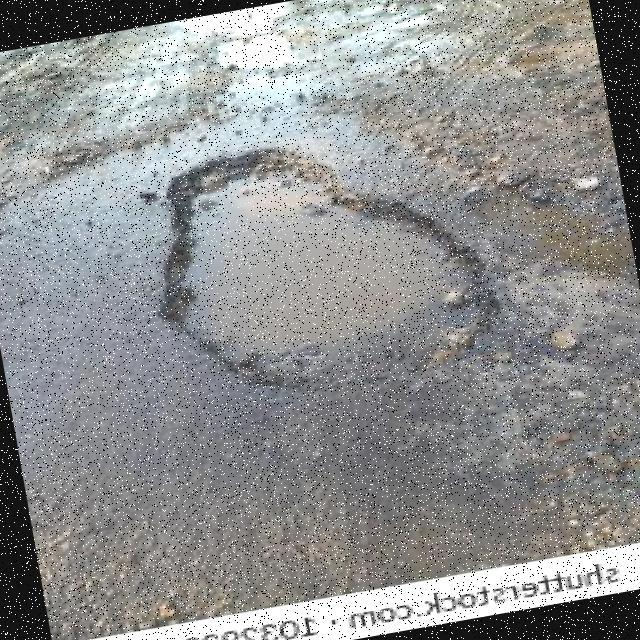Pothole: (160, 148, 489, 391)
